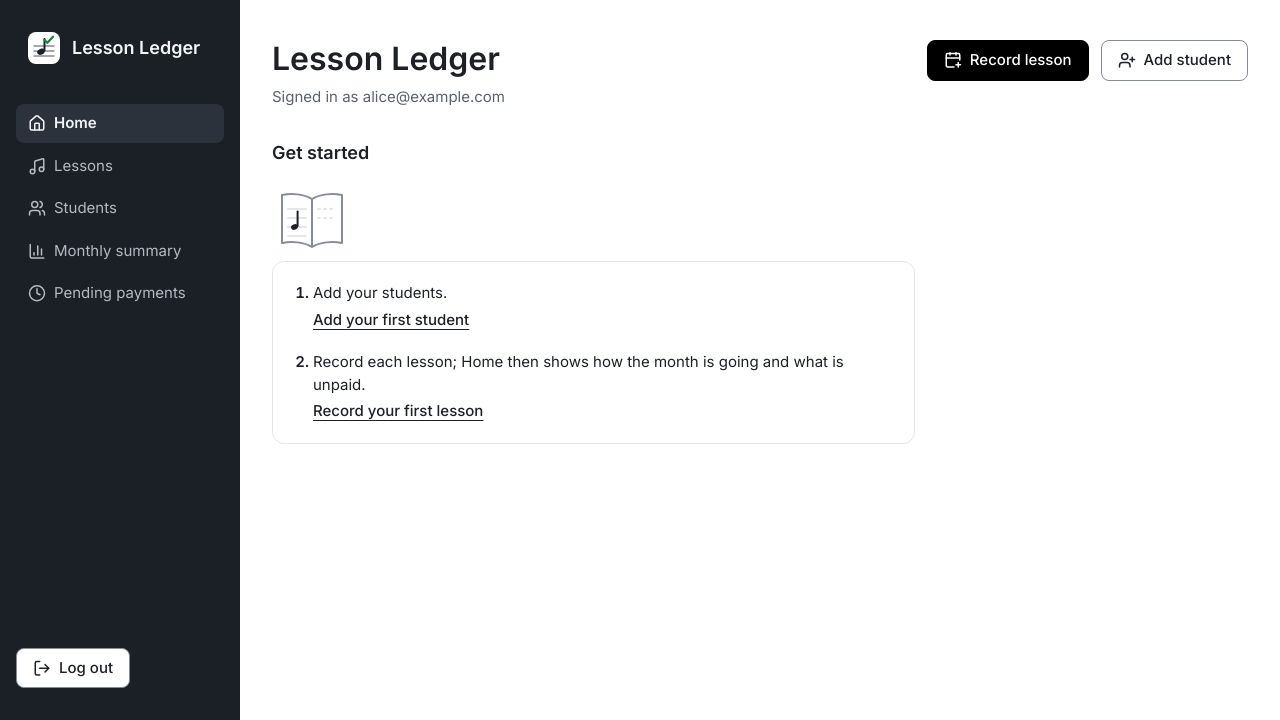
Test case: AC-3 home page and log out › discards all cached server data on log out, so Back cannot show it
The image size is (1280, 720).
expect the text "Signed in as alice@example.com" is shown: met, box [272,86,505,109]
Click the button "Log out": (73, 668) [16,648,130,688]
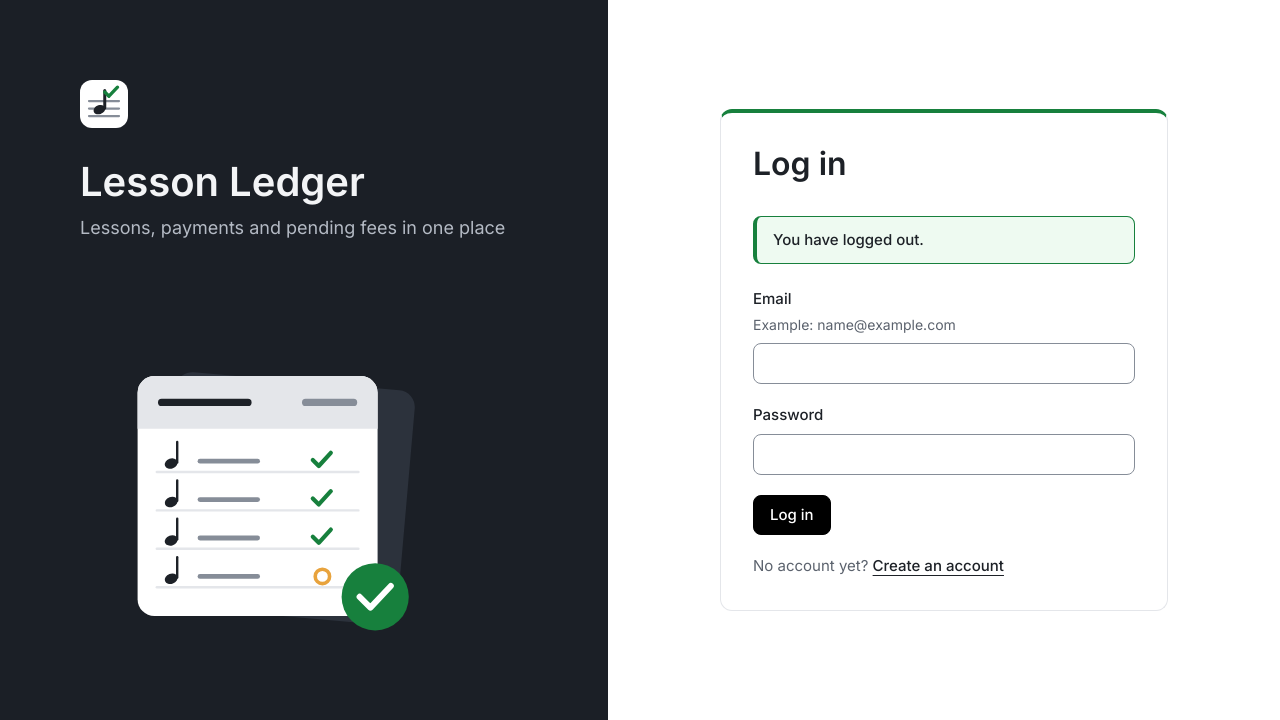
expect the heading "Log in" is shown: met, box [753,144,847,183]
